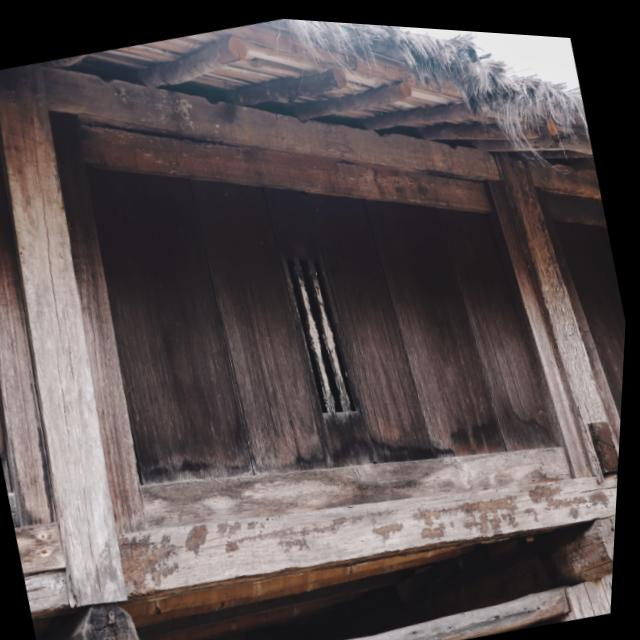Atap: (61, 19, 595, 171)
